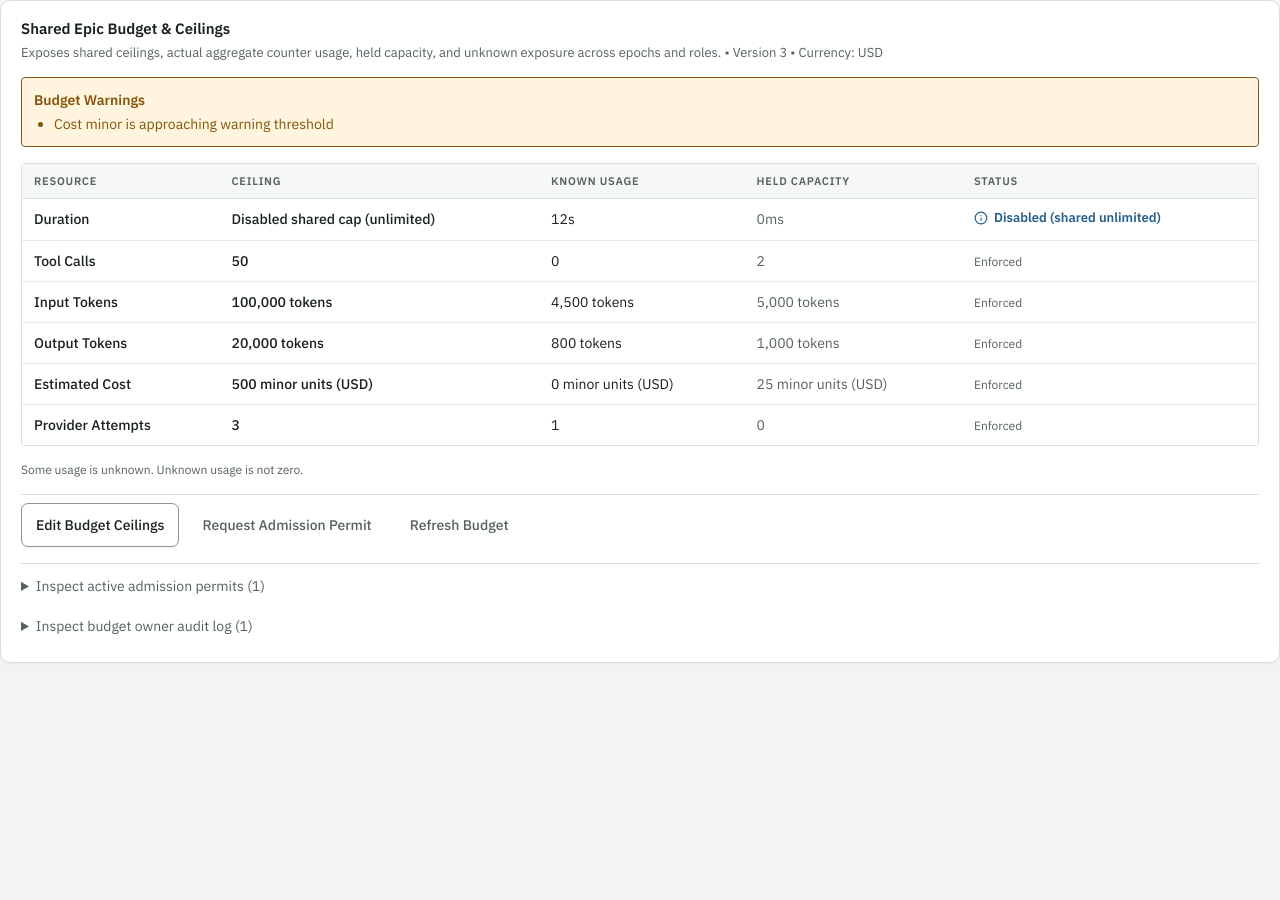
it: EpicBudgetPanel › preserves numeric ceiling when disabled and re-enabled
expect the heading "Shared Epic Budget & Ceilings" is shown: met, box left=21, top=19, right=230, bottom=38
Click the button "Edit Budget Ceilings" at (100, 525), box left=21, top=503, right=180, bottom=547
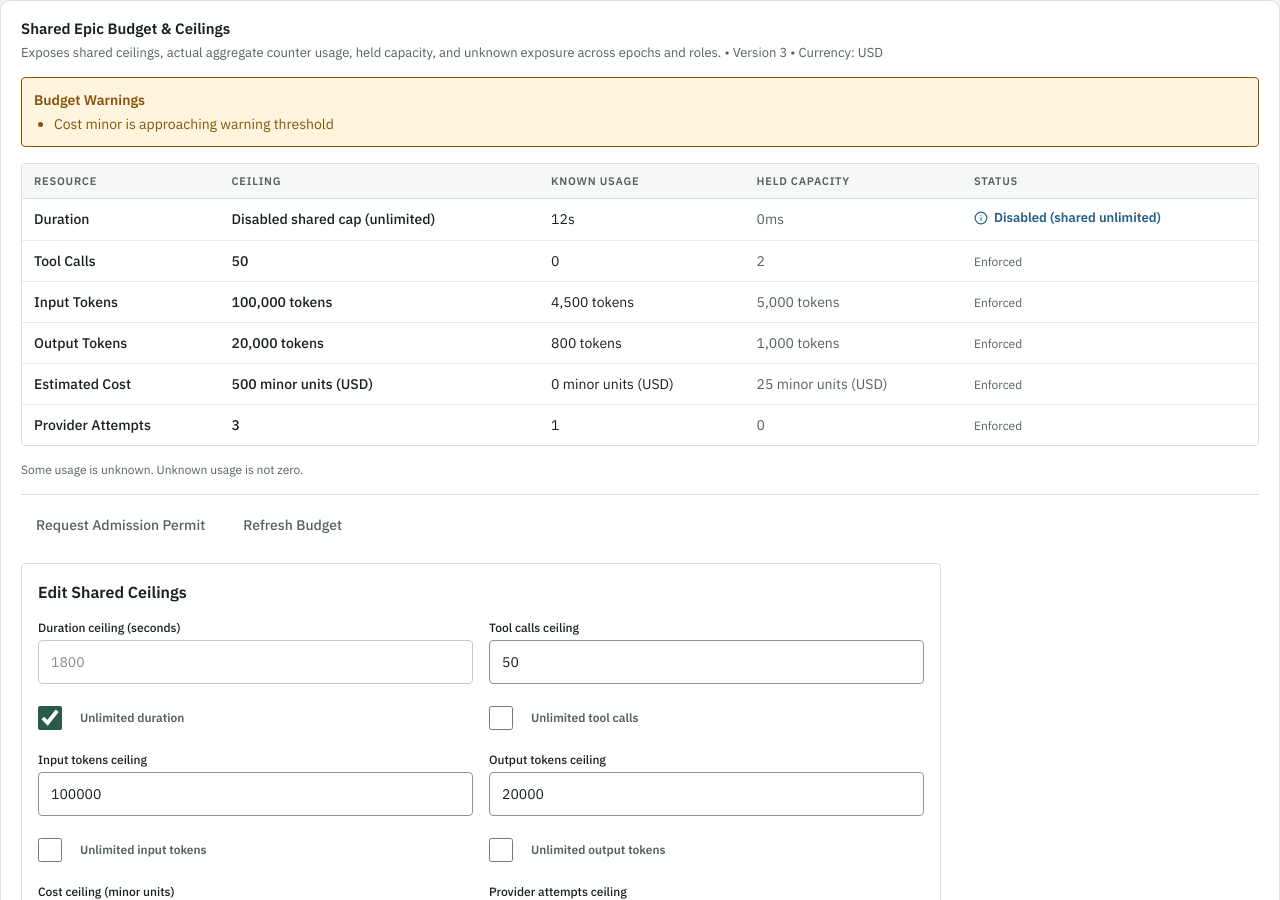
expect the field labelled "Tool calls ceiling" holds "50": met, box left=489, top=640, right=924, bottom=684
# Toggle unlimited (disabled)
Click the checkbox labelled "Unlimited tool calls" at (501, 718), box left=489, top=706, right=513, bottom=730
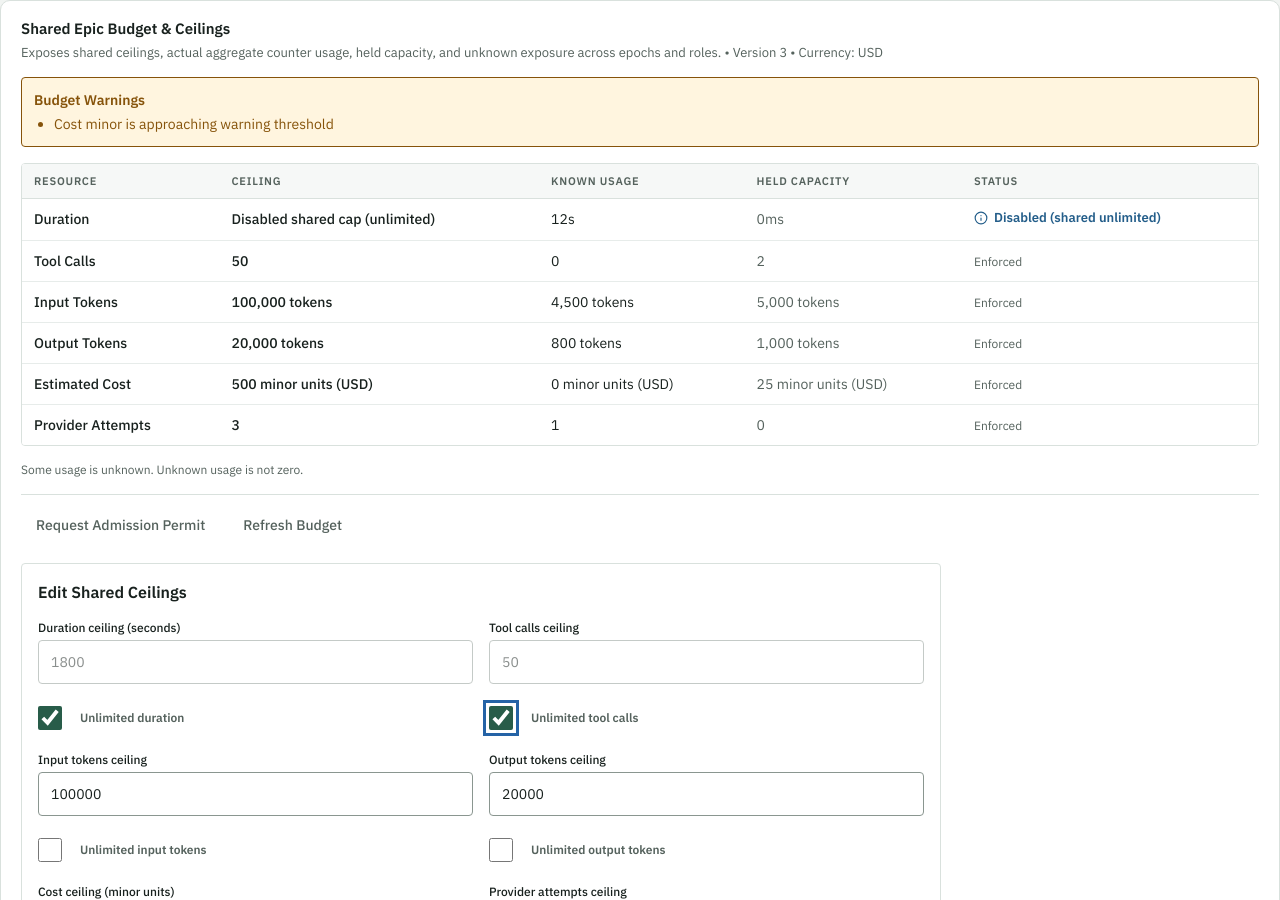
expect the field labelled "Tool calls ceiling" is disabled: met, box left=489, top=640, right=924, bottom=684
# Toggle back to enabled
Click the checkbox labelled "Unlimited tool calls" at (501, 718), box left=489, top=706, right=513, bottom=730
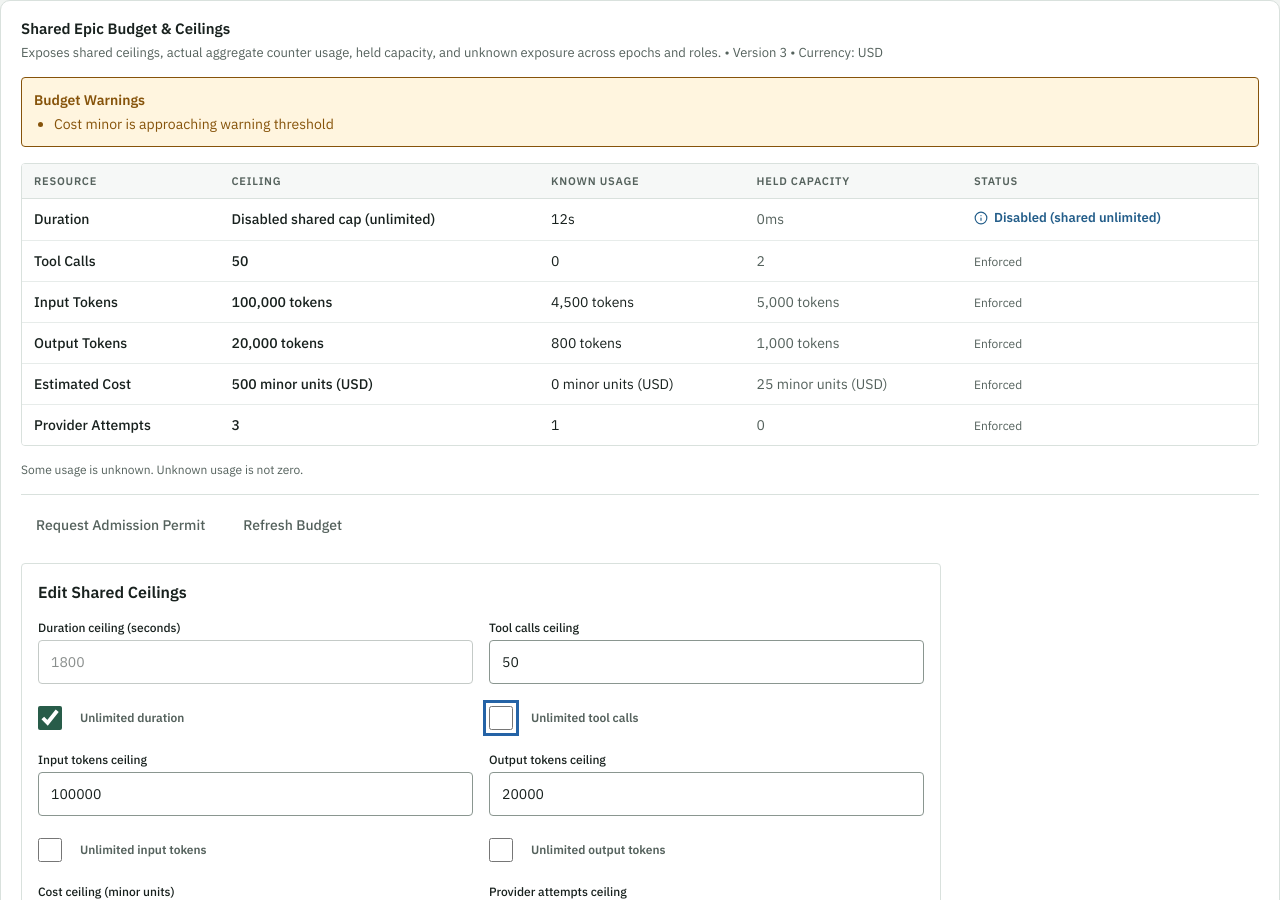
expect the field labelled "Tool calls ceiling" holds "50": met, box left=489, top=640, right=924, bottom=684
expect the field labelled "Tool calls ceiling" is enabled: met, box left=489, top=640, right=924, bottom=684
